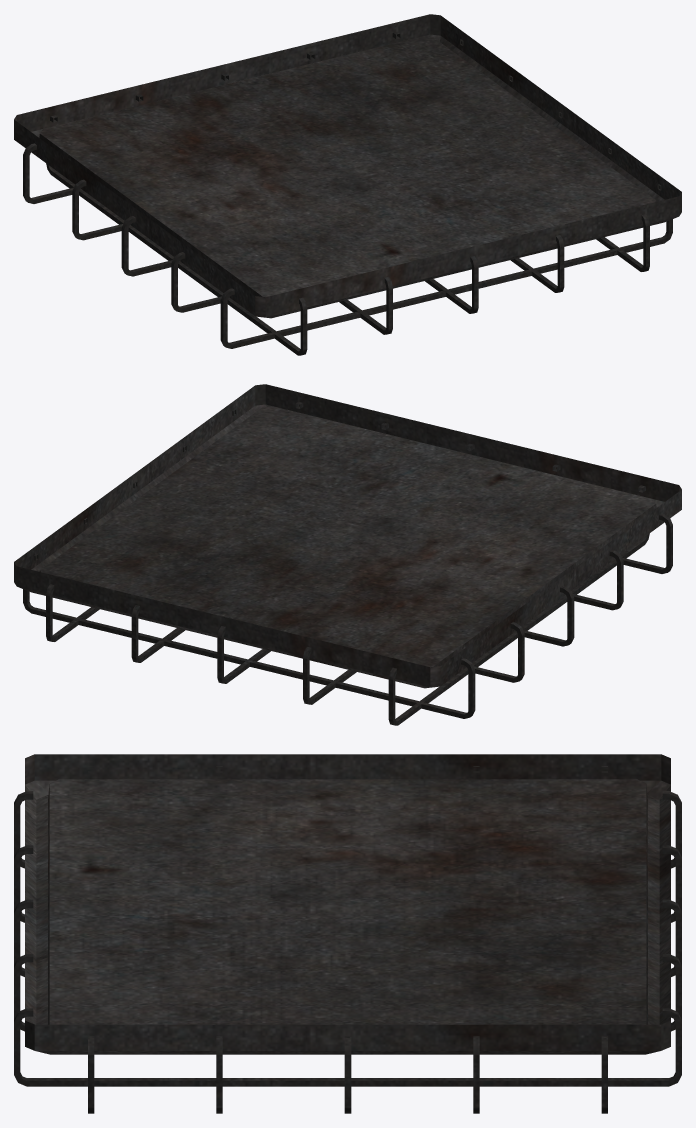
File: ceiling_lamp_1_on.obj
3 renders of one model, top to bottom at view 1: azimuth 30°, elevation 25°; view 2: azimuth 150°, elevation 25°; view 3: azimuth 270°, elevation 25°, orthographic. The views are drawn at different scales.
Visible parts, largest first — view 1: ceiling_lamp_1_on, ceiling_lamp_1_on_protector; view 2: ceiling_lamp_1_on, ceiling_lamp_1_on_protector; view 3: ceiling_lamp_1_on, ceiling_lamp_1_on_protector.
Part boxes in pixels (x1,y1,x2,y2): ceiling_lamp_1_on: [14, 14, 681, 318]; ceiling_lamp_1_on_protector: [23, 32, 672, 355]; ceiling_lamp_1_on: [14, 384, 681, 688]; ceiling_lamp_1_on_protector: [23, 402, 672, 725]; ceiling_lamp_1_on: [25, 754, 670, 1054]; ceiling_lamp_1_on_protector: [14, 766, 681, 1113].
Size of the model in its own units: 1.05 by 0.15 by 1.04.
